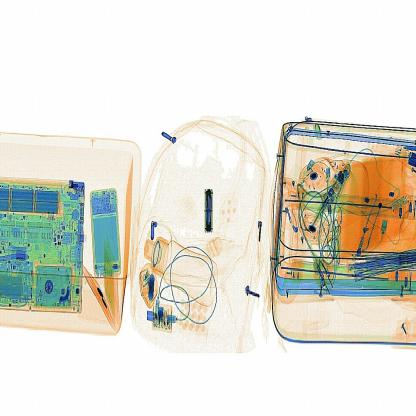scissors: (199, 184, 216, 237)
